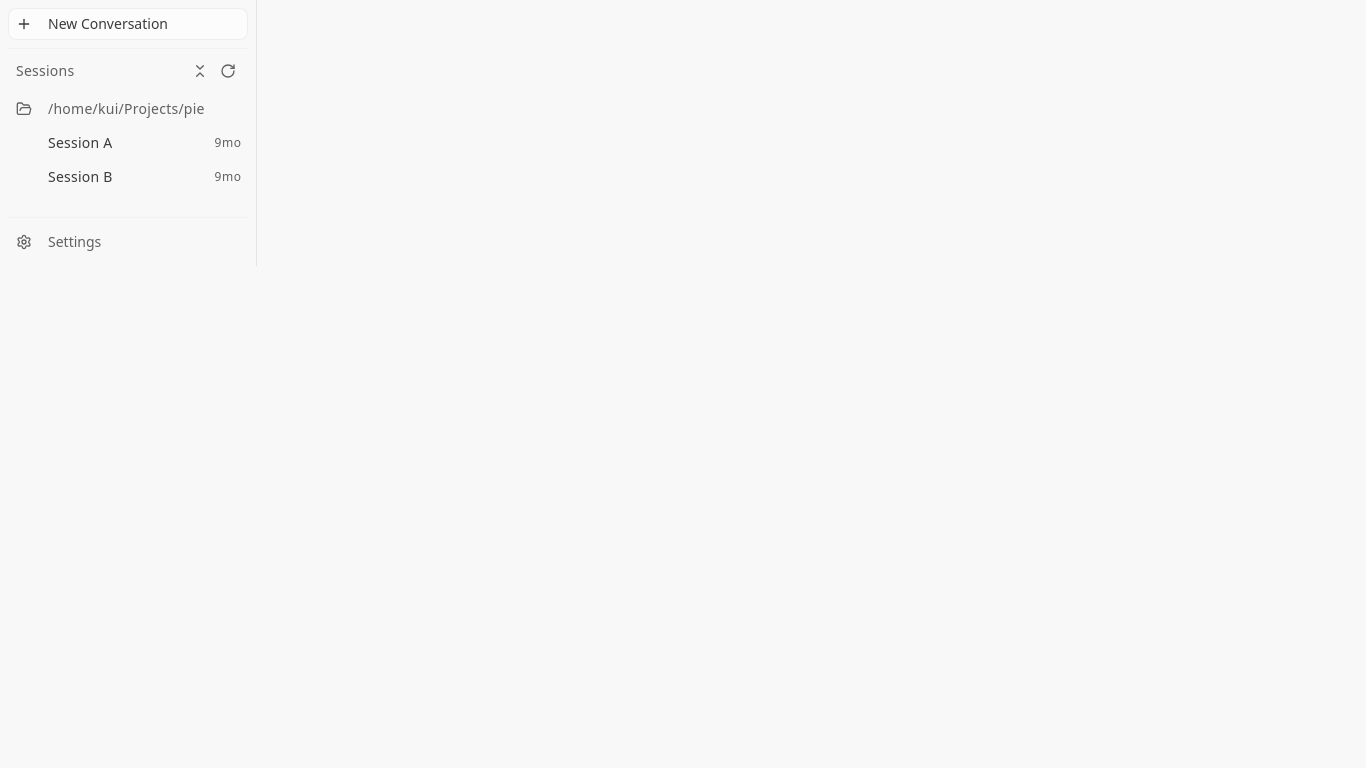
Test: SessionSidebar › renders at most one preview card when moving between session rows
Hover over the text "Session B" at (128, 177), box [8,161,248,193]
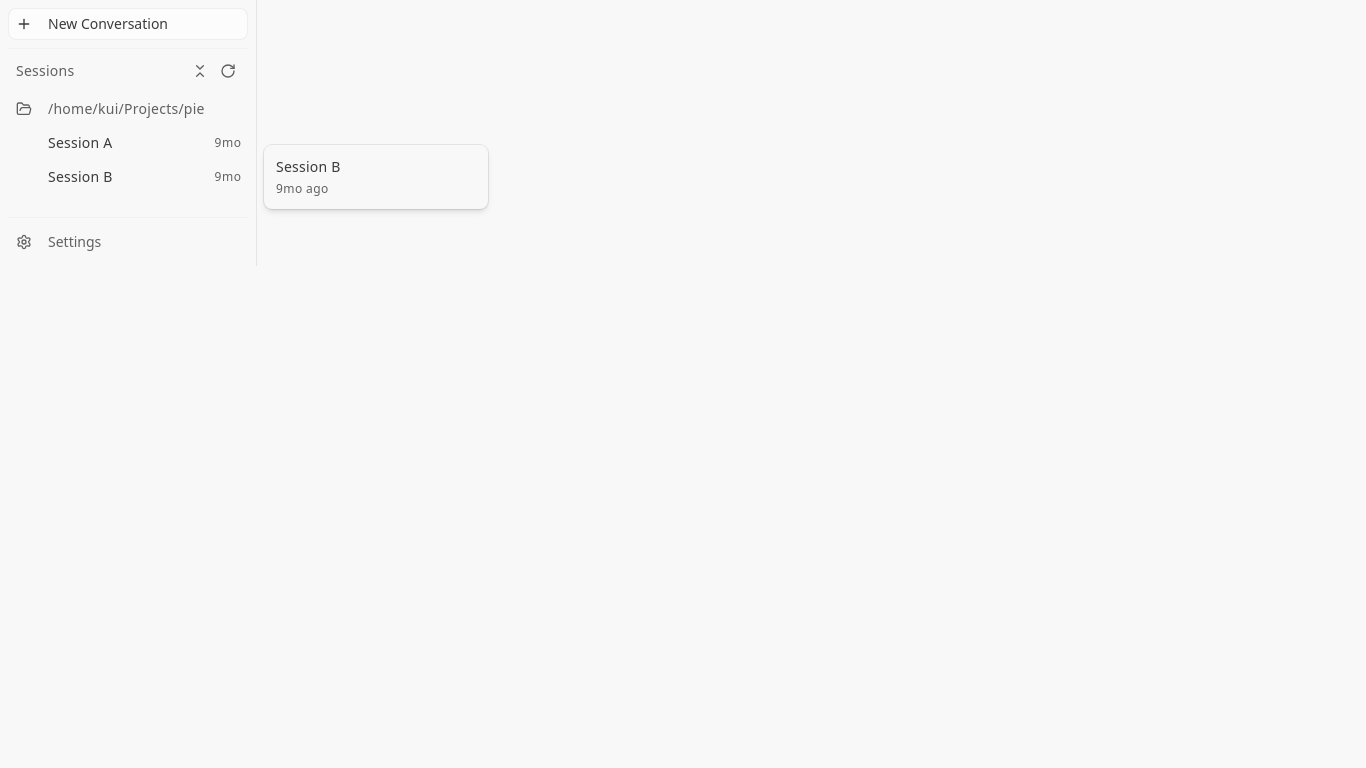
Check: the 1st text "Session B" is shown, box [276,157,341,176]
